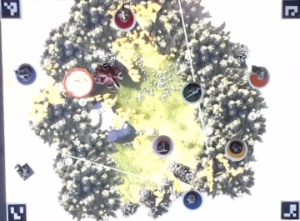blue: (181, 187, 204, 210)
green: (181, 79, 204, 104)
orange: (247, 65, 272, 89)
pink: (149, 132, 175, 157)
red: (112, 6, 138, 31)
violet: (13, 61, 38, 86)
yellow: (223, 135, 250, 162)
